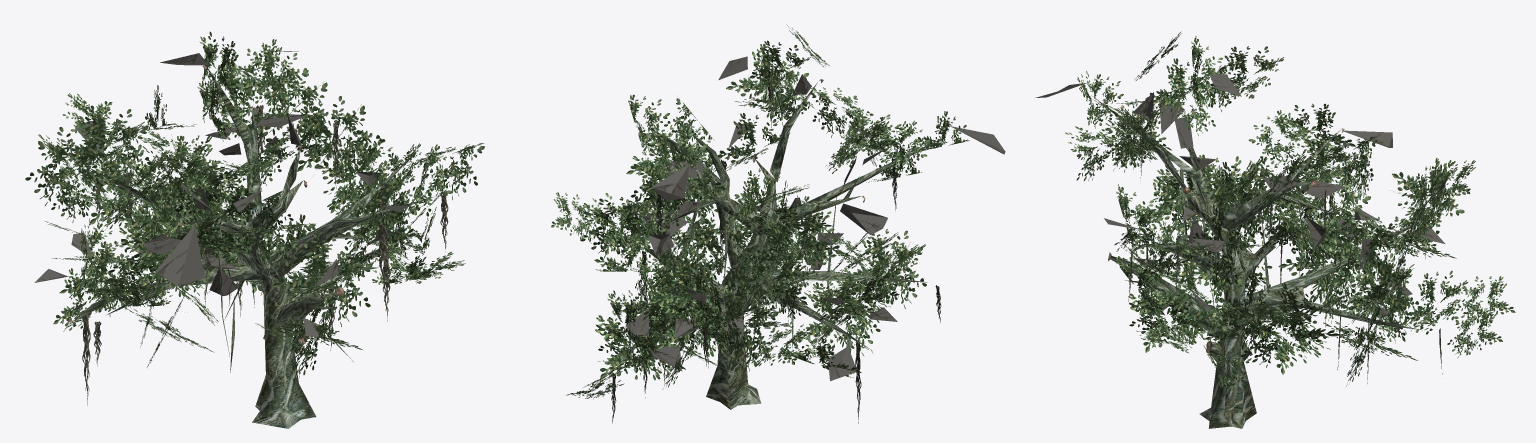
The model's file is tree05.FBX.
3 views of the same model, side by side, from view 1: azimuth 30°, elevation 25°; view 2: azimuth 150°, elevation 25°; view 3: azimuth 270°, elevation 25° (orthographic). The views are drawn at different scales.
Parts seen in each view (by area): view 1: objmesh_SampleLeaves_1, Object01, objmesh_Branches_03, default; view 2: objmesh_SampleLeaves_1, Object01, objmesh_Branches_03, default; view 3: objmesh_SampleLeaves_1, Object01, objmesh_Branches_03, default.
Part boxes in pixels (bbox=[...]): objmesh_SampleLeaves_1: bbox=[25, 31, 484, 380]; Object01: bbox=[74, 66, 436, 428]; objmesh_Branches_03: bbox=[34, 51, 409, 337]; default: bbox=[82, 105, 448, 405]; objmesh_SampleLeaves_1: bbox=[551, 24, 969, 399]; Object01: bbox=[618, 82, 944, 409]; objmesh_Branches_03: bbox=[625, 56, 1005, 381]; default: bbox=[611, 75, 941, 423]; objmesh_SampleLeaves_1: bbox=[1065, 31, 1515, 392]; Object01: bbox=[1091, 95, 1439, 428]; objmesh_Branches_03: bbox=[1035, 74, 1447, 318]; default: bbox=[1128, 123, 1442, 388].
Size of the model in its own units: 19.76 by 22.93 by 19.82.
